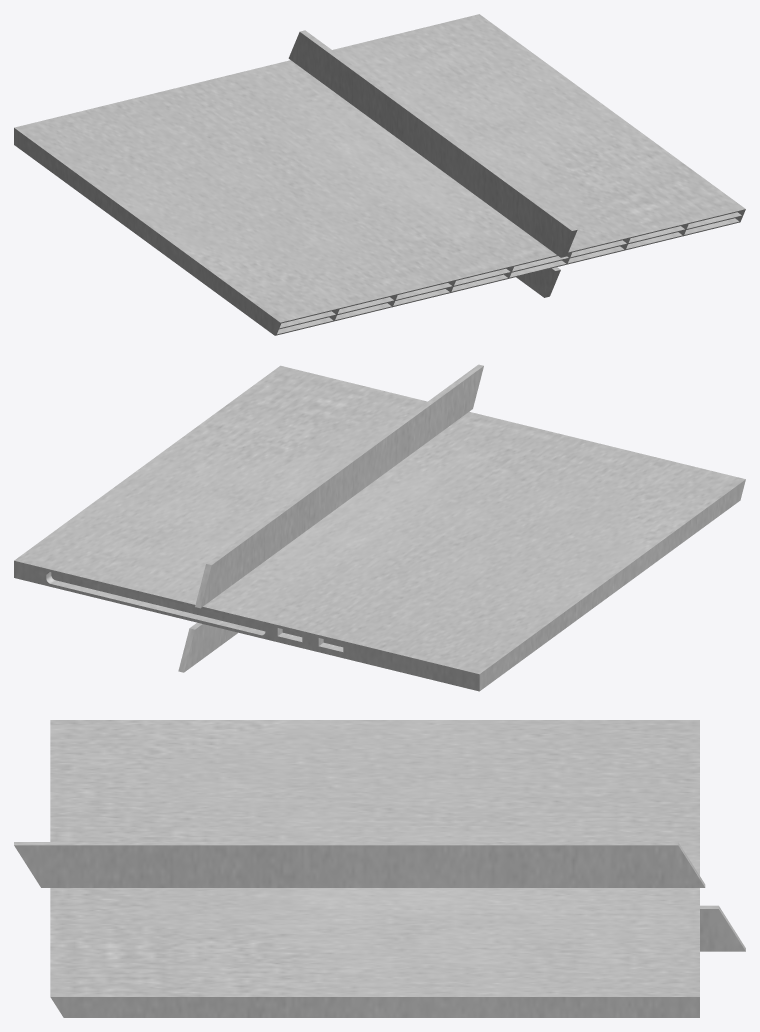
The model's file is Playstation_Center_Core.obj.
3 renders of one model, top to bottom at view 1: azimuth 30°, elevation 25°; view 2: azimuth 150°, elevation 25°; view 3: azimuth 270°, elevation 25°, orthographic. The views are drawn at different scales.
Size of the model in its own units: 0.2621 by 0.0469 by 0.2928.
1 material, 1 textured.
